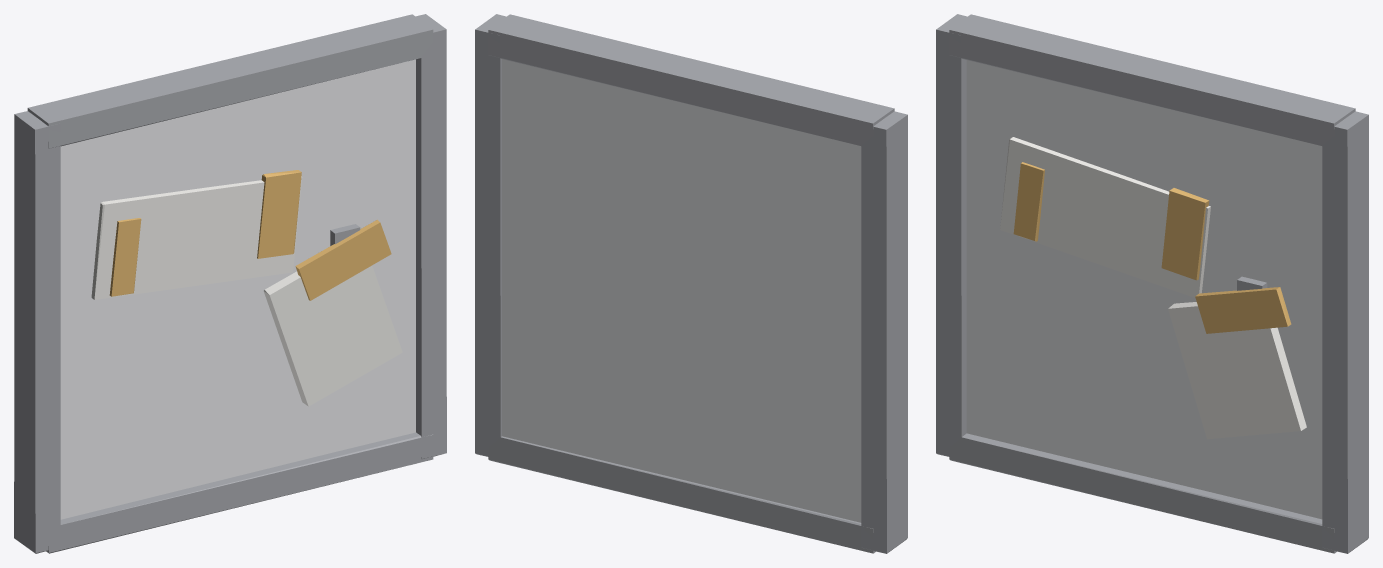
Rendered from prop_icon_sell_01.glb.
3 views of the same model, side by side, from view 1: azimuth 30°, elevation 25°; view 2: azimuth 150°, elevation 25°; view 3: azimuth 330°, elevation 25° (orthographic).
Parts seen in each view (by area): view 1: prop_icon_sell_01; view 2: prop_icon_sell_01; view 3: prop_icon_sell_01.
Boxes of the visible parts, x1,y1,x2,y2 form: prop_icon_sell_01: (14, 14, 446, 553); prop_icon_sell_01: (475, 14, 907, 553); prop_icon_sell_01: (936, 14, 1368, 553).
Size of the model in its own units: 0.32 by 0.32 by 0.032.
